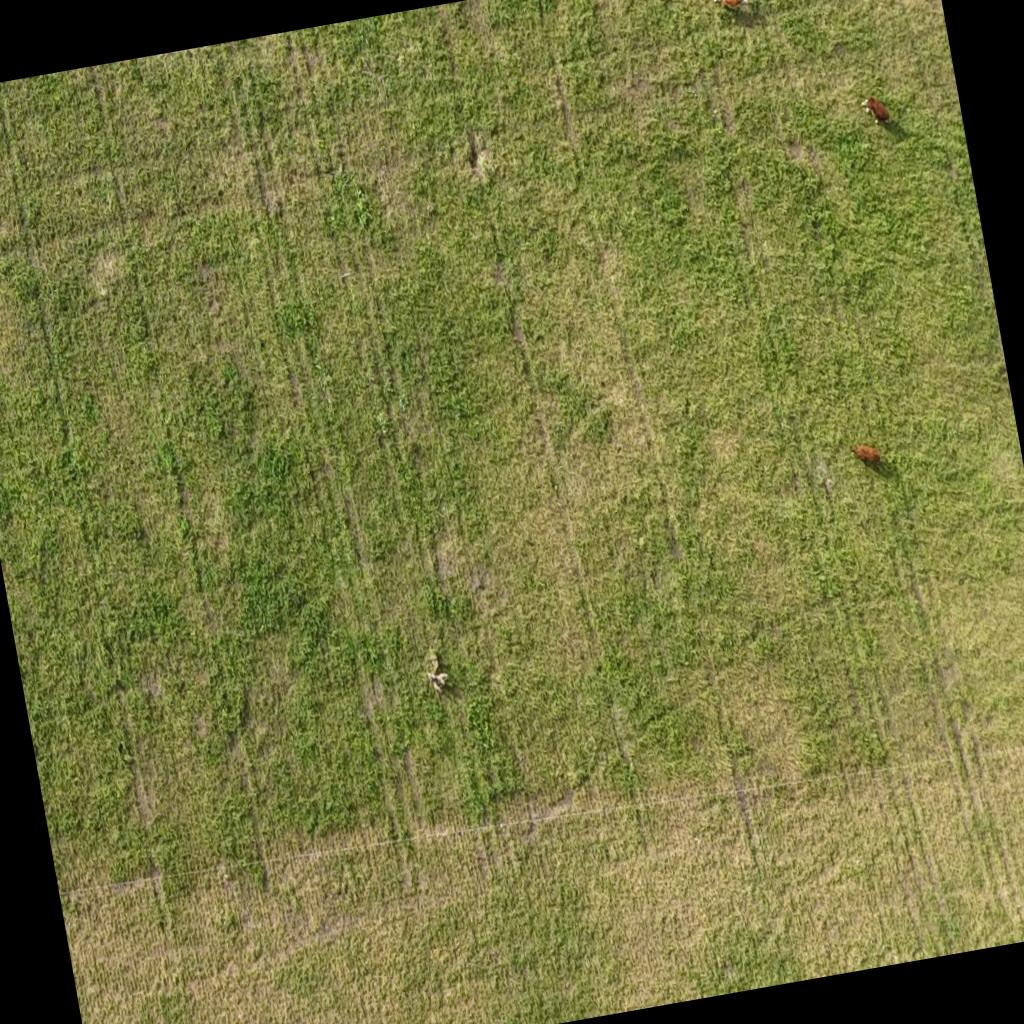cow: (848, 432, 884, 476), (860, 92, 892, 128), (713, 0, 753, 25)
